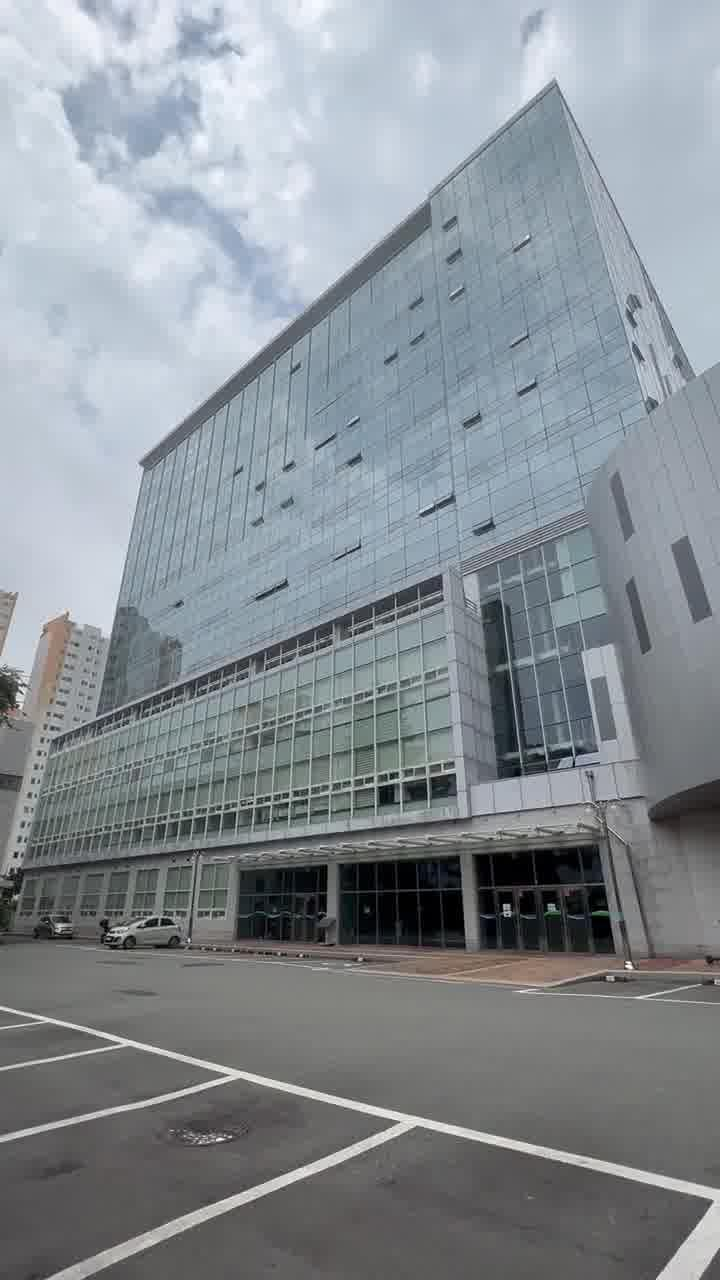building: (132, 280, 704, 888)
